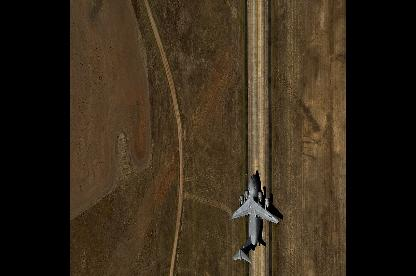C2: (229, 173, 280, 262)
